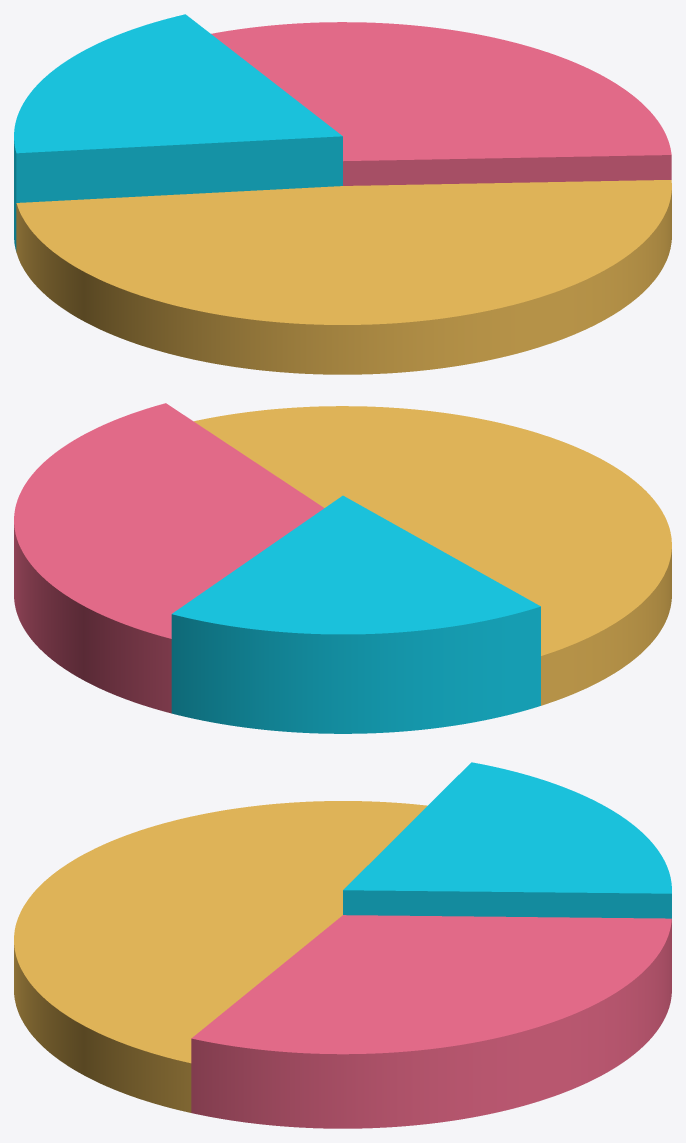
Rendered from disable2.fbx.
3 renders of one model, top to bottom at view 1: azimuth 30°, elevation 25°; view 2: azimuth 150°, elevation 25°; view 3: azimuth 270°, elevation 25°, orthographic.
Parts seen in each view (by area): view 1: Disable1_obj; view 2: Disable1_obj; view 3: Disable1_obj.
Part boxes in pixels (x1=…): Disable1_obj: x1=14, y1=14, x2=671, y2=374; Disable1_obj: x1=14, y1=403, x2=671, y2=733; Disable1_obj: x1=14, y1=762, x2=671, y2=1128.
Size of the model in its own units: 2.4 by 0.4 by 2.4.
